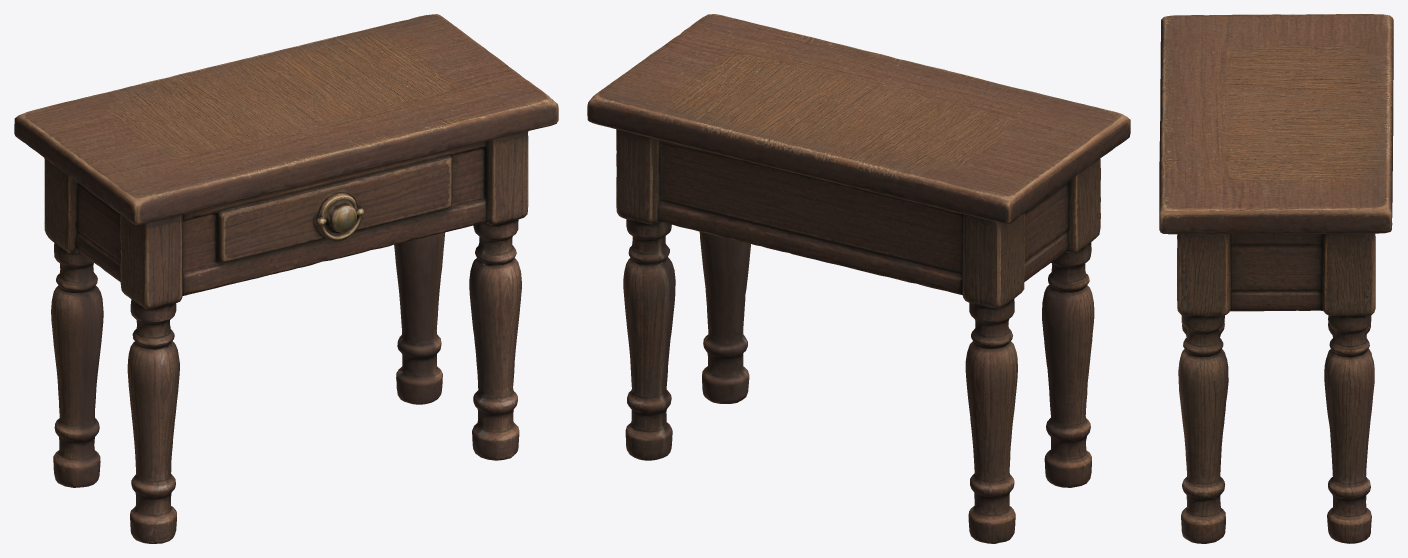
Rendered from Furn_EntryTable.fbx.
3 views of the same model, side by side, from view 1: azimuth 30°, elevation 25°; view 2: azimuth 150°, elevation 25°; view 3: azimuth 270°, elevation 25° (orthographic). The views are drawn at different scales.
Visible parts, largest first — view 1: texture_mapping; view 2: texture_mapping; view 3: texture_mapping.
Boxes of the visible parts, x1,y1,x2,y2 form: texture_mapping: [14, 14, 558, 543]; texture_mapping: [587, 14, 1130, 543]; texture_mapping: [1159, 14, 1393, 543].
Size of the model in its own units: 1 by 0.501 by 0.8172.
1 material, 1 textured.
